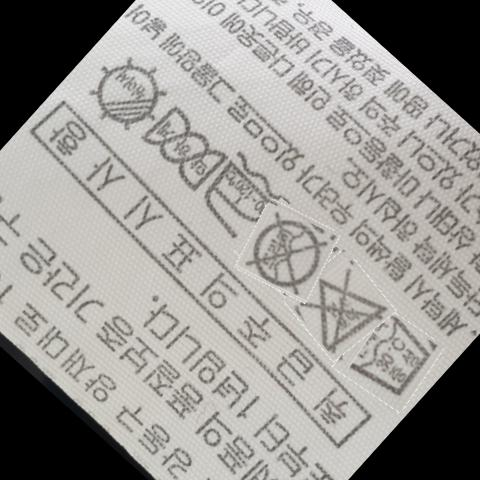DN_dry_clean: (254, 218, 324, 290)
dry_flat_in_shade: (97, 62, 167, 129)
hand_wash: (360, 319, 431, 401)
iron_low: (204, 162, 274, 238)
non_chlorine_bleach: (311, 274, 385, 346)
wring: (152, 105, 228, 187)
